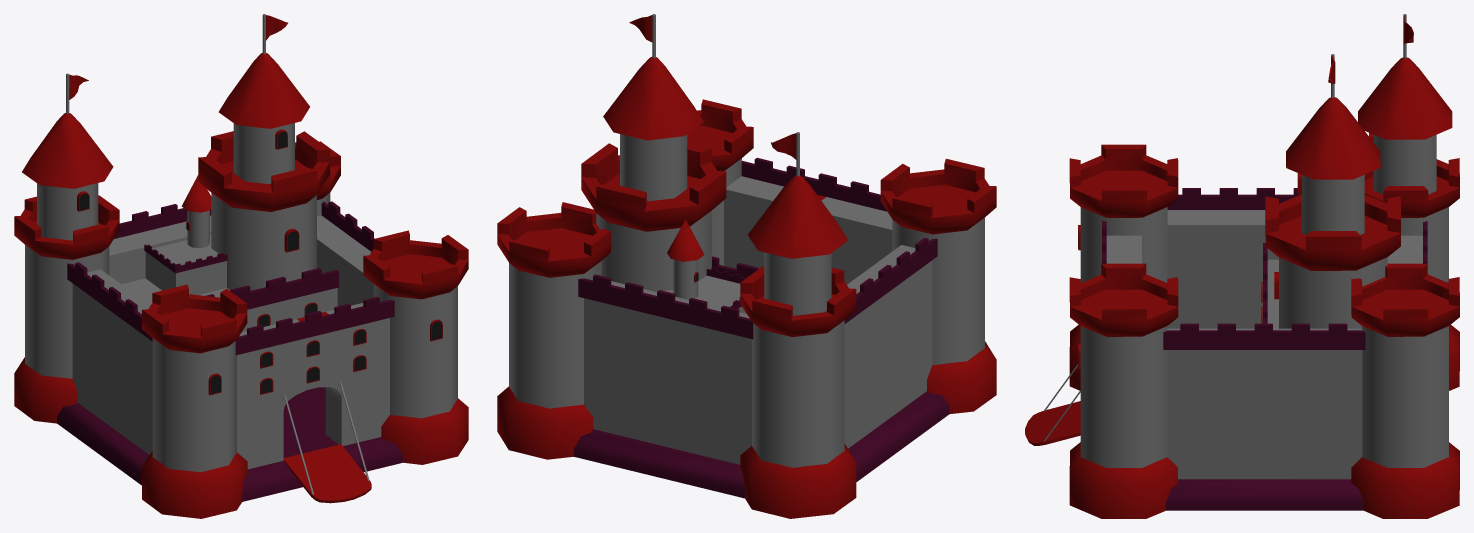
File: CS_Evil_Castle_Stage01.fbx
3 renders of one model, left to right at view 1: azimuth 30°, elevation 25°; view 2: azimuth 150°, elevation 25°; view 3: azimuth 270°, elevation 25°, orthographic. The views are drawn at different scales.
Visible parts, largest first — view 1: Evil_Castle_Stage_1; view 2: Evil_Castle_Stage_1; view 3: Evil_Castle_Stage_1.
Boxes of the visible parts, bbox=[...] form: Evil_Castle_Stage_1: bbox=[14, 14, 468, 518]; Evil_Castle_Stage_1: bbox=[497, 14, 996, 518]; Evil_Castle_Stage_1: bbox=[1025, 14, 1459, 518].
Bounding box in the file's own units: 832 × 966 × 927.
